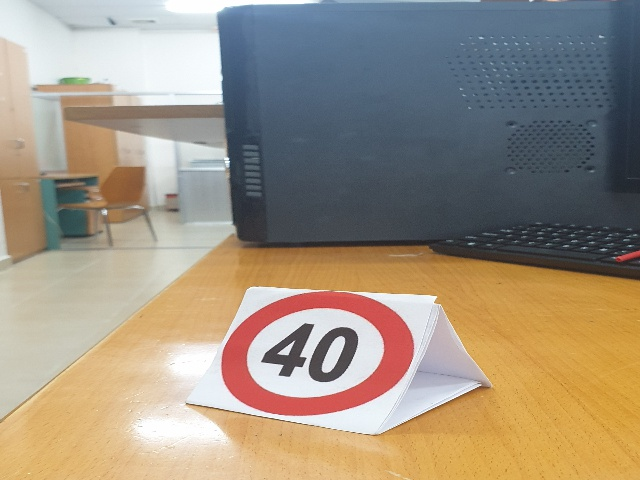Limit 40: (224, 291, 418, 416)
